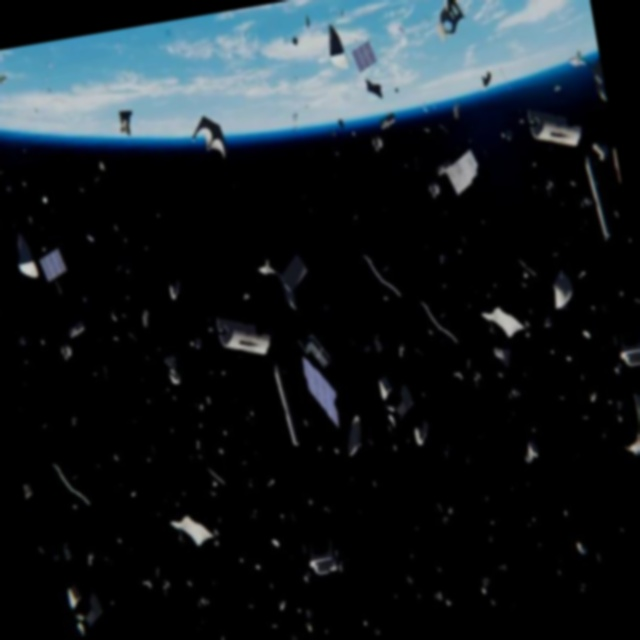large_debris: (290, 323, 349, 440), (252, 232, 321, 323), (418, 138, 491, 214), (209, 300, 276, 374), (522, 91, 588, 163), (297, 525, 352, 599), (164, 502, 220, 560), (476, 291, 528, 353), (183, 104, 231, 171), (33, 237, 74, 300), (425, 0, 473, 53), (335, 402, 375, 465), (607, 301, 640, 373), (613, 381, 640, 463), (544, 259, 580, 314), (322, 15, 353, 78), (348, 33, 384, 83), (388, 375, 419, 426), (408, 411, 435, 453), (519, 427, 542, 467), (374, 371, 395, 406)
